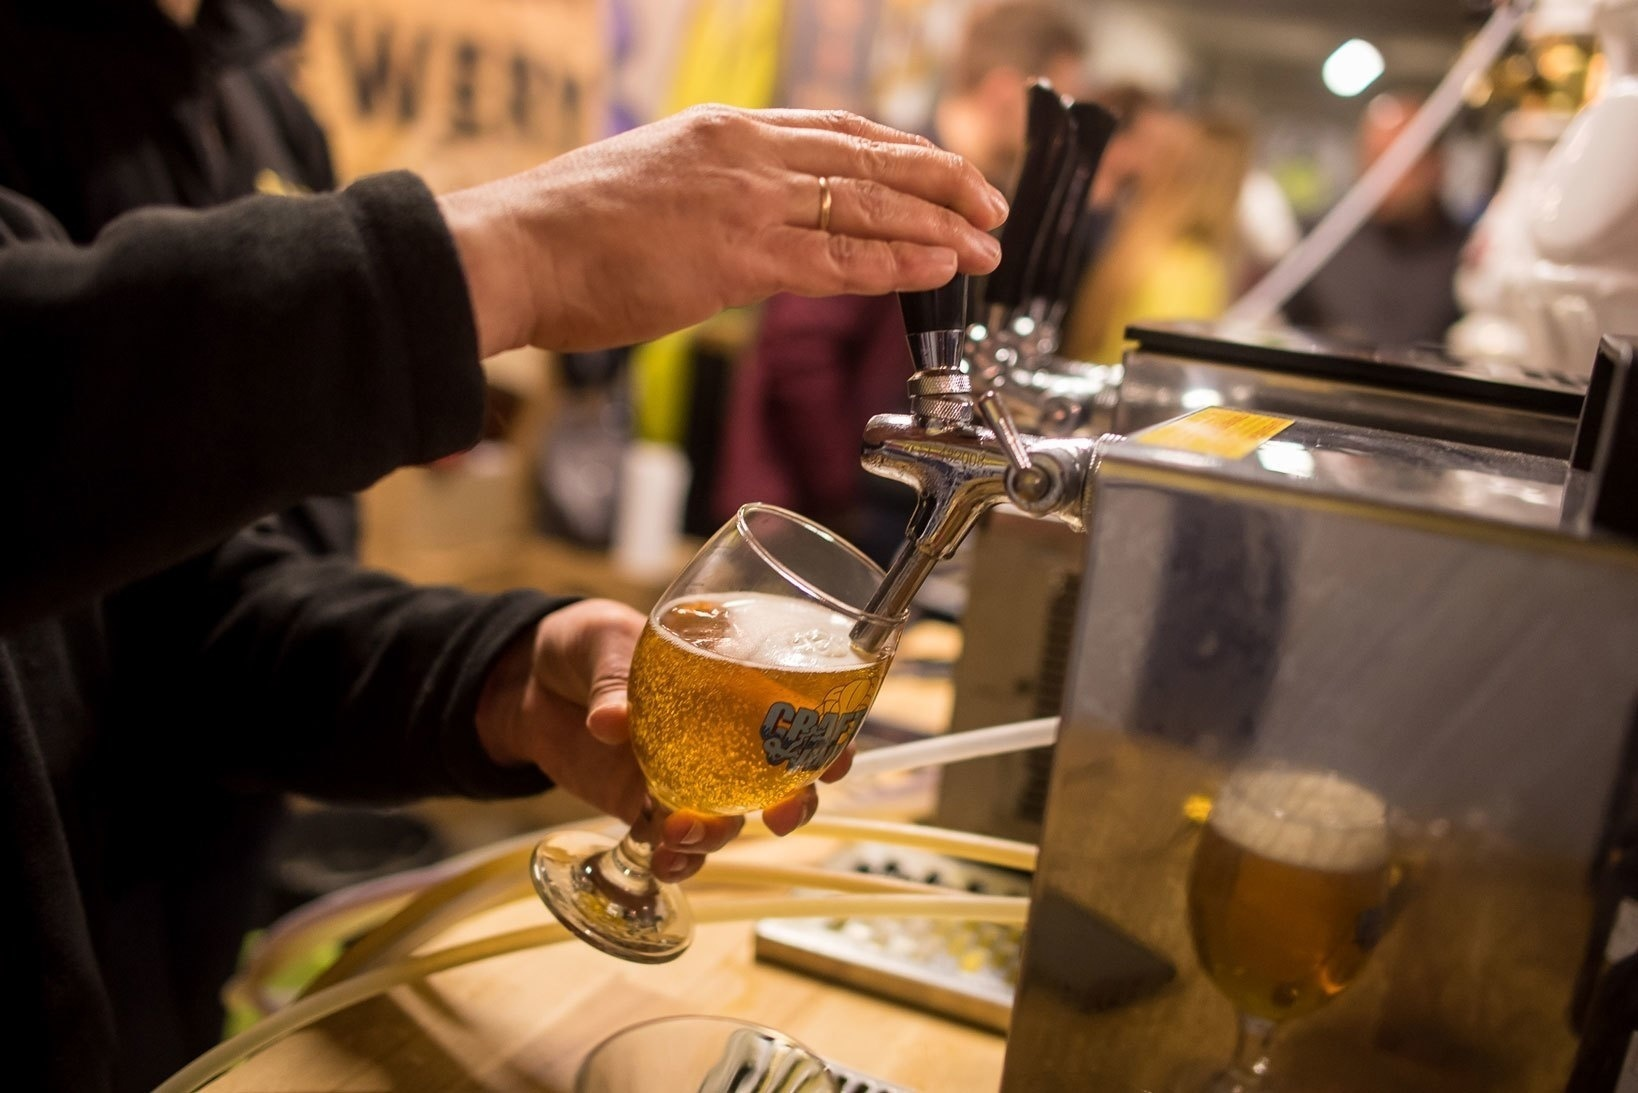whiskey: (542, 514, 896, 959)
